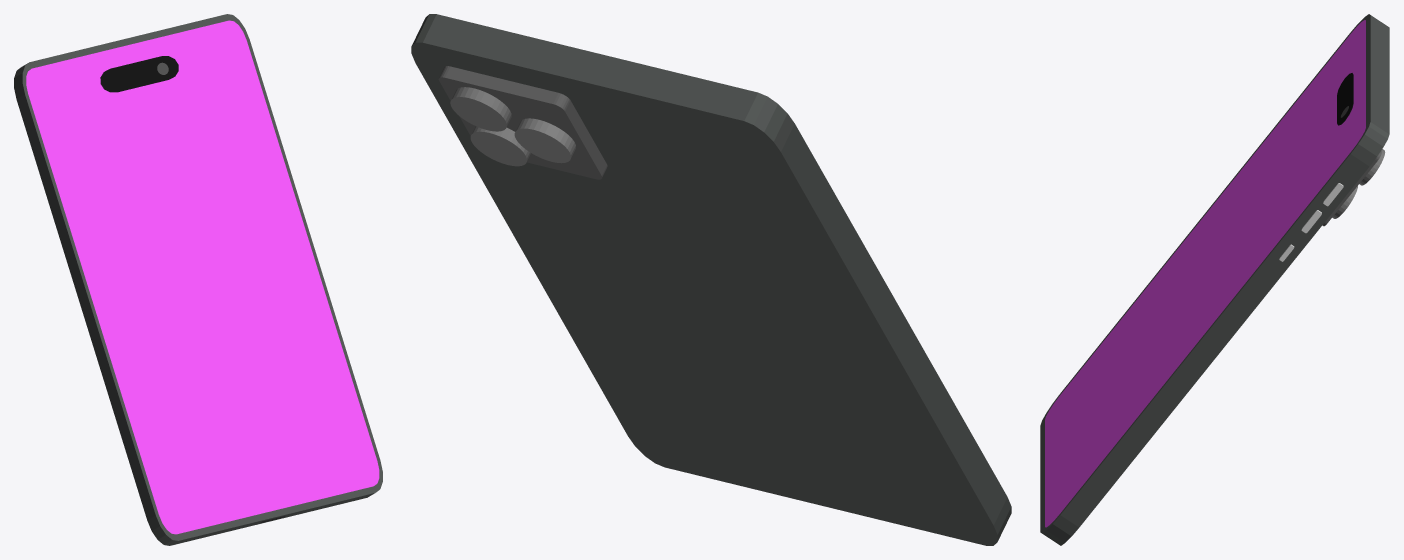
The model's file is Iphone Armado.fbx.
3 views of the same model, side by side, from view 1: azimuth 30°, elevation 25°; view 2: azimuth 150°, elevation 25°; view 3: azimuth 270°, elevation 25° (orthographic). The views are drawn at different scales.
Visible parts, largest first — view 1: Plano.003, Plano, Cubo; view 2: Plano, Cubo.002, Cilindro.002, Cilindro.001, Cilindro.003; view 3: Plano.003, Plano, Cubo.
Boxes of the visible parts, x1,y1,x2,y2 form: Plano.003: (26, 20, 379, 534); Plano: (14, 14, 382, 545); Cubo: (100, 56, 178, 92); Plano: (411, 14, 1011, 545); Cubo.002: (438, 66, 607, 179); Cilindro.002: (514, 118, 575, 163); Cilindro.001: (450, 87, 511, 131); Cilindro.003: (470, 126, 530, 166); Plano.003: (1045, 20, 1365, 527); Plano: (1040, 14, 1389, 545); Cubo: (1337, 73, 1353, 125).
Bounding box in the file's own units: 2.6 × 4.18 × 3.12.
